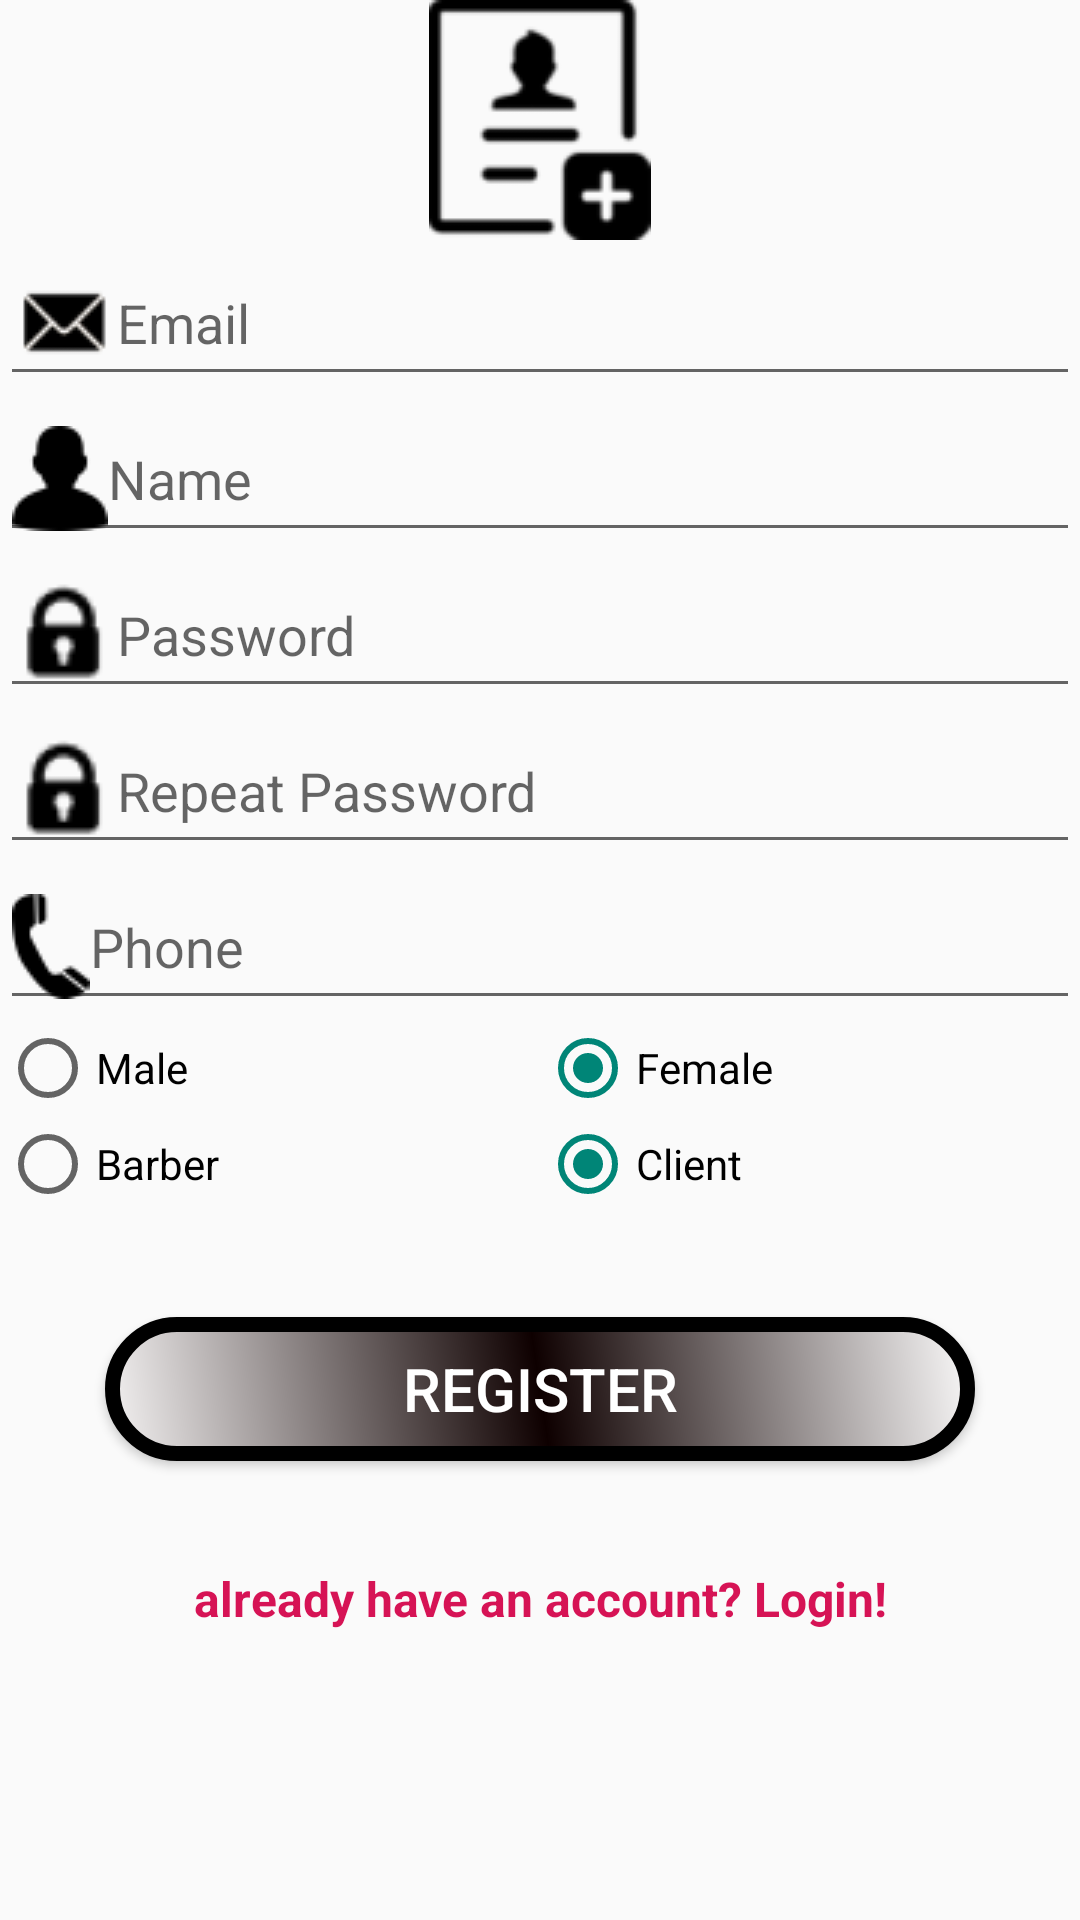

Icon click points for this 1080 x 1920 phone screenshot, format [x,y]:
register: [540,120]
